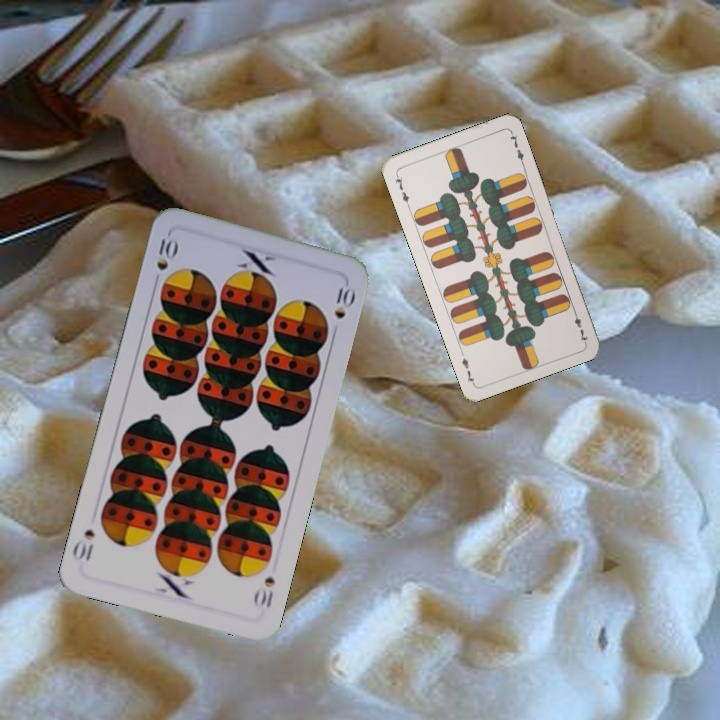E7: (569, 305, 590, 345), (391, 170, 412, 209)
S10: (149, 231, 180, 289), (250, 571, 278, 611)
